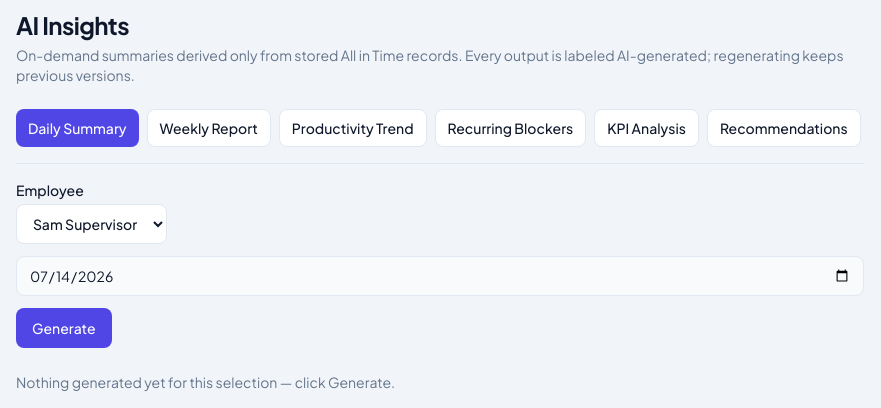
Scenario: AiInsightsPage › requests the supervisor own-department blocker report from the Recurring Blockers tab
Click the button "Recurring Blockers".
click(510, 128)  # box [435,109,586,147]
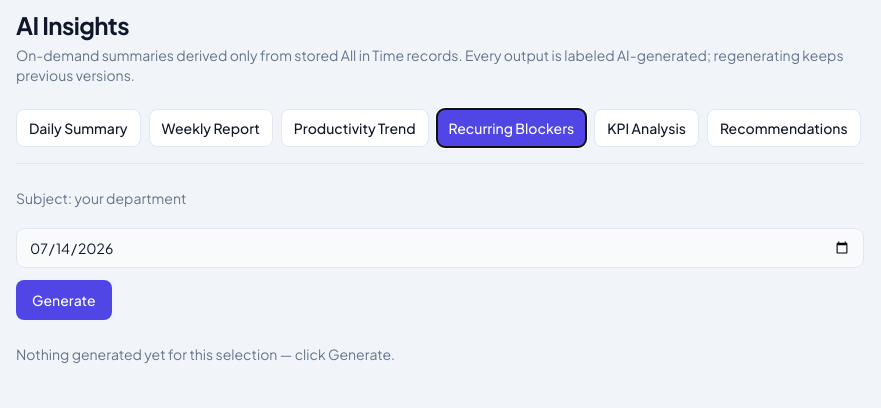
Result: the text "Subject: your department" is shown at [16,189,186,207]
